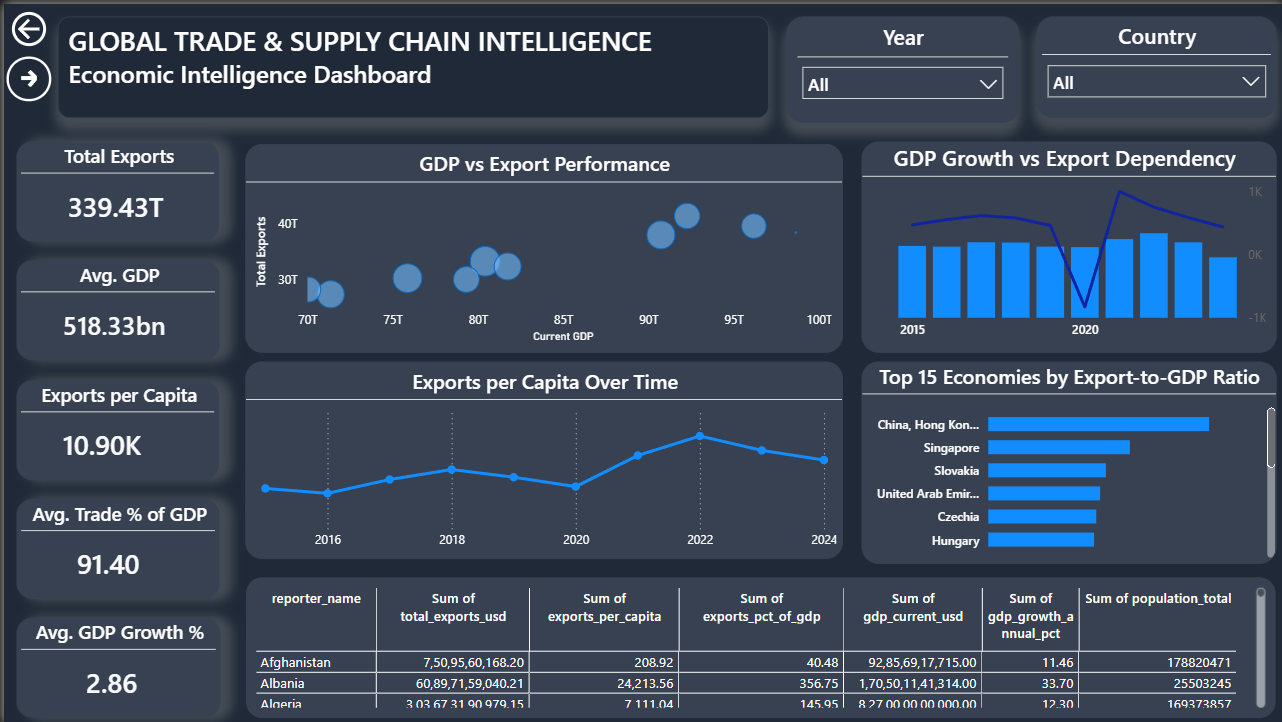

What the dashboard file says about the page in this screenshot:
{"tool":"powerbi","page":{"name":"Economic Intelligence Dashboard","canvas":[1280,720],"ordinal":3},"visuals":[{"type":"group","id":"g1","title":"Group 4","box":[2.7,3.7,1270,712],"z":0,"group":"g6"},{"type":"textbox","box":[53.9,13.7,711.2,101.2],"z":0,"group":"g5"},{"type":"group","id":"g2","title":"Group 1","box":[12.7,139.1,203.8,576.6],"z":0,"group":"g1"},{"type":"group","id":"g3","title":"Group 3","box":[2.7,3.7,1270,116.2],"z":1000,"group":"g1"},{"type":"group","id":"g4","title":"Group 6","box":[241.5,138.7,1031.2,577.5],"z":1000,"group":"g6"},{"type":"cardVisual","title":"Total Exports","fields":{"Data":["DAX_Measures.EI_Total_Exports"]},"box":[12.7,139.1,202,100],"z":1000,"group":"g2"},{"type":"cardVisual","title":"Avg. Trade % of GDP","fields":{"Data":["DAX_Measures.EI_Trade_%_GDP"]},"box":[12.7,496.6,203.2,100],"z":2000,"group":"g2"},{"type":"cardVisual","title":"Exports per Capita","fields":{"Data":["DAX_Measures.EI_Exports_Per_Capita"]},"box":[12.7,377.4,202,100],"z":3000,"group":"g2"},{"type":"cardVisual","title":"Avg. GDP Growth %","fields":{"Data":["DAX_Measures.EI_GDP_Growth"]},"box":[12.7,615.7,203.8,100],"z":4000,"group":"g2"},{"type":"cardVisual","title":"Avg. GDP","fields":{"Data":["DAX_Measures.EI_GDP"]},"box":[12.7,258.3,203.2,100],"z":5000,"group":"g2"},{"type":"lineChart","title":"Exports per Capita Over Time","fields":{"Y":["Sum(Economic_Profile.exports_per_capita)"],"Category":["Economic_Profile.reference_year"]},"box":[241.5,358.7,597.5,197.5],"z":6000,"group":"g4"},{"type":"pivotTable","fields":{"Rows":["Economic_Profile.reporter_name"],"Values":["Sum(Economic_Profile.total_exports_usd)","Sum(Economic_Profile.exports_per_capita)","Sum(Economic_Profile.exports_pct_of_gdp)","Sum(Economic_Profile.gdp_current_usd)","Sum(Economic_Profile.gdp_growth_annual_pct)","Sum(Economic_Profile.population_total)"]},"box":[241.5,573.7,1031.2,142.5],"z":7000,"group":"g4"},{"type":"actionButton","title":"Back","box":[2.7,3.7,51.2,45],"z":8000,"group":"g3"},{"type":"clusteredBarChart","title":"Top 15 Economies by Export-to-GDP Ratio","fields":{"Y":["Sum(Economic_Profile.exports_pct_of_gdp)"],"Category":["Economic_Profile.reporter_name"]},"box":[857.7,358.7,415,202.5],"z":9000,"group":"g4"},{"type":"scatterChart","title":"GDP vs Export Performance","fields":{"X":["Sum(Economic_Profile.gdp_current_usd)"],"Y":["Sum(Economic_Profile.total_exports_usd)"],"Size":["Sum(Economic_Profile.population_total)"],"Category":["Economic_Profile.reference_year"]},"box":[241.5,141.2,597.5,208.8],"z":10000,"group":"g4"},{"type":"lineClusteredColumnComboChart","title":"GDP Growth vs Export Dependency","fields":{"Category":["Economic_Profile.reference_year"],"Y":["Sum(Economic_Profile.exports_pct_of_gdp)"],"Y2":["Sum(Economic_Profile.gdp_growth_annual_pct)"]},"box":[857.7,138.7,415,211.2],"z":11000,"group":"g4"},{"type":"slicer","title":"Country","fields":{"Values":["DimCountry.reporter_name"]},"box":[1032.7,13.7,240,101.2],"z":12000,"group":"g5"},{"type":"slicer","title":"Year","fields":{"Values":["DimYear.reference_year"]},"box":[782.7,13.7,232.5,106.2],"z":13000,"group":"g5"},{"type":"actionButton","box":[2.7,53.7,45,45],"z":14000,"group":"g5"},{"type":"group","id":"g5","title":"Group 2","box":[2.7,13.7,1270,106.2],"z":14002,"group":"g3"},{"type":"group","id":"g6","title":"Group 5","box":[2.7,3.7,1270,712.5],"z":14005}]}

Visuals, with their boxes in screenshot pixels (x1, y1, x2, y2), scaled from the page's 1280x720 canvas onto the 1282x722 screenshot:
"Group 4" group: (x1=3, y1=4, x2=1275, y2=718)
textbox: (x1=54, y1=14, x2=766, y2=115)
"Group 1" group: (x1=13, y1=139, x2=217, y2=718)
"Group 3" group: (x1=3, y1=4, x2=1275, y2=120)
"Group 6" group: (x1=242, y1=139, x2=1275, y2=718)
"Total Exports" cardVisual: (x1=13, y1=139, x2=215, y2=240)
"Avg. Trade % of GDP" cardVisual: (x1=13, y1=498, x2=216, y2=598)
"Exports per Capita" cardVisual: (x1=13, y1=378, x2=215, y2=479)
"Avg. GDP Growth %" cardVisual: (x1=13, y1=617, x2=217, y2=718)
"Avg. GDP" cardVisual: (x1=13, y1=259, x2=216, y2=359)
"Exports per Capita Over Time" lineChart: (x1=242, y1=360, x2=840, y2=558)
pivotTable - Economic_Profile.reporter_name x Sum(Economic_Profile.total_exports_usd): (x1=242, y1=575, x2=1275, y2=718)
"Back" actionButton: (x1=3, y1=4, x2=54, y2=49)
"Top 15 Economies by Export-to-GDP Ratio" clusteredBarChart: (x1=859, y1=360, x2=1275, y2=563)
"GDP vs Export Performance" scatterChart: (x1=242, y1=142, x2=840, y2=351)
"GDP Growth vs Export Dependency" lineClusteredColumnComboChart: (x1=859, y1=139, x2=1275, y2=351)
"Country" slicer: (x1=1034, y1=14, x2=1275, y2=115)
"Year" slicer: (x1=784, y1=14, x2=1017, y2=120)
actionButton: (x1=3, y1=54, x2=48, y2=99)
"Group 2" group: (x1=3, y1=14, x2=1275, y2=120)
"Group 5" group: (x1=3, y1=4, x2=1275, y2=718)
